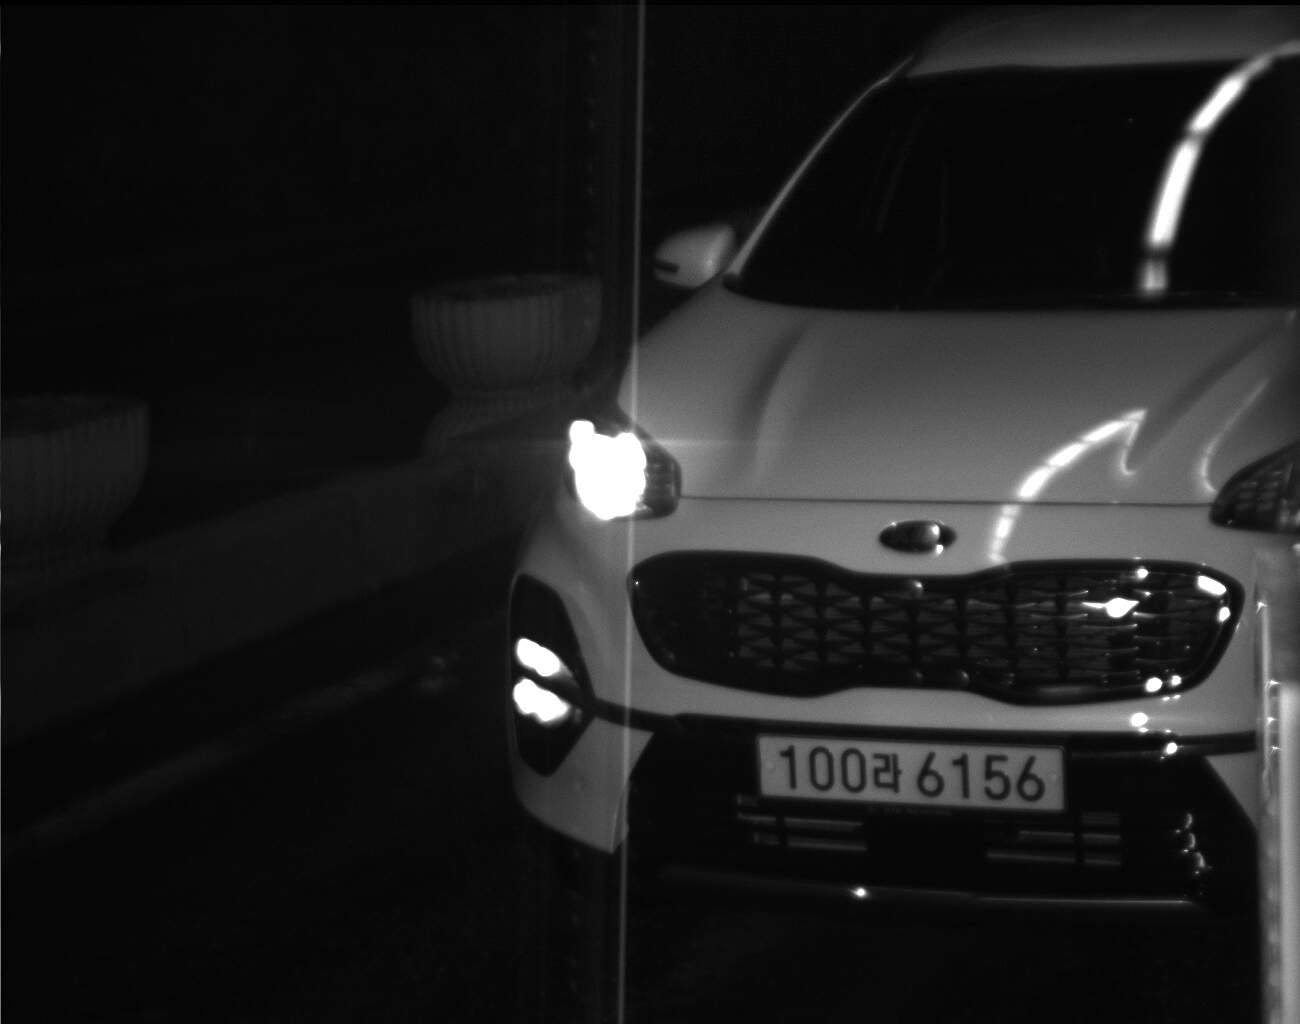car: (502, 1, 1300, 927)
plate: (757, 734, 1067, 813)
